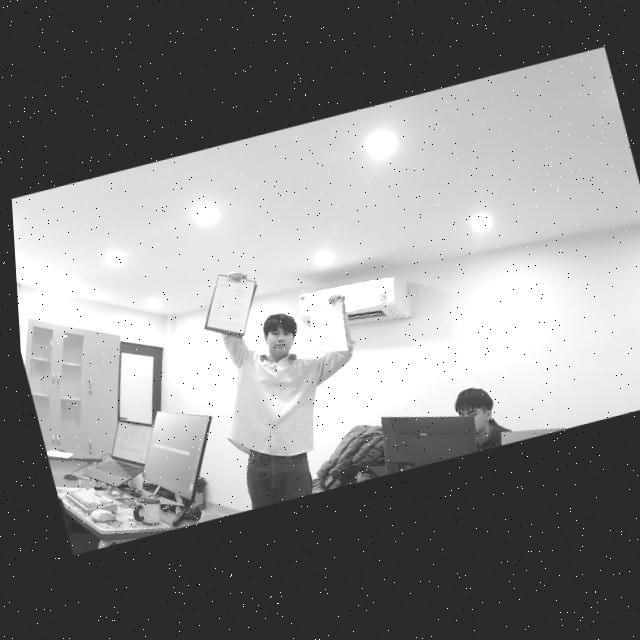face: (264, 314, 296, 362)
